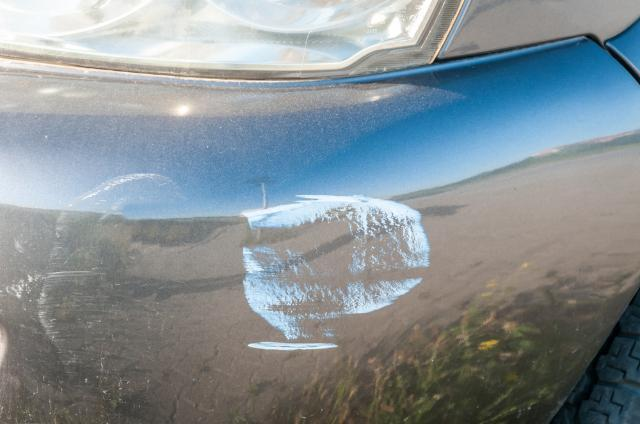scratch: (237, 189, 437, 356), (36, 171, 180, 362)
